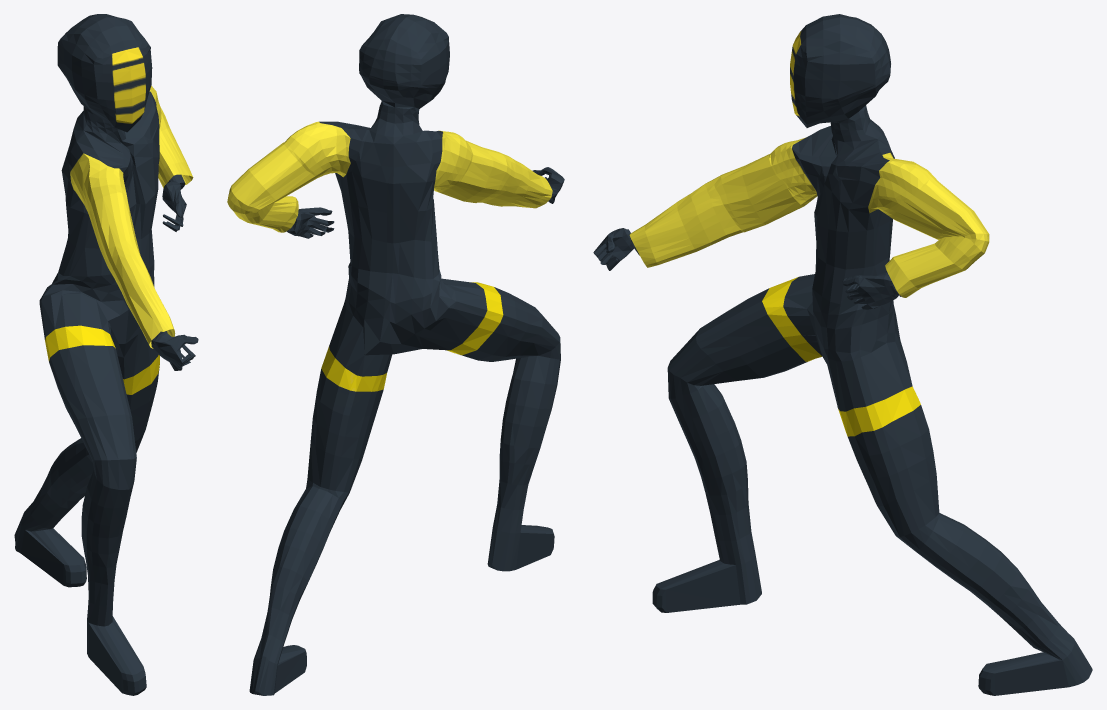
Rendered from Sentry_WL_000024.obj.
3 views of the same model, side by side, from view 1: azimuth 30°, elevation 25°; view 2: azimuth 150°, elevation 25°; view 3: azimuth 270°, elevation 25° (orthographic). The views are drawn at different scales.
Visible parts, largest first — view 1: Cube; view 2: Cube; view 3: Cube.
Boxes of the visible parts, <box> form: Cube: <box>14,14,198,695</box>; Cube: <box>227,14,564,695</box>; Cube: <box>593,14,1092,695</box>.
Bounding box in the file's own units: 1.22 × 3.6 × 2.5.
